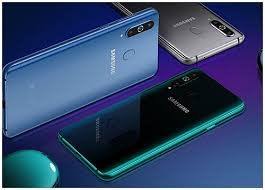samsung: (56, 69, 245, 179)
